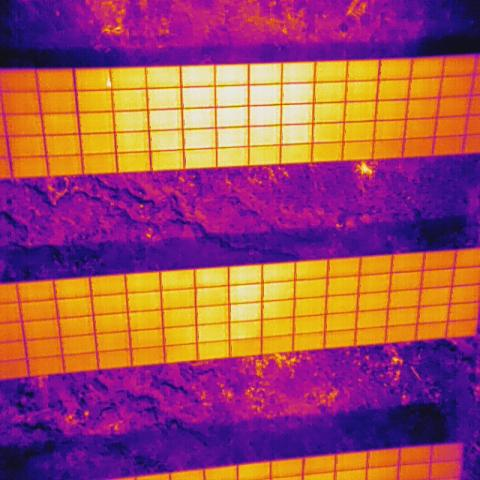fault: (104, 77, 113, 89)
